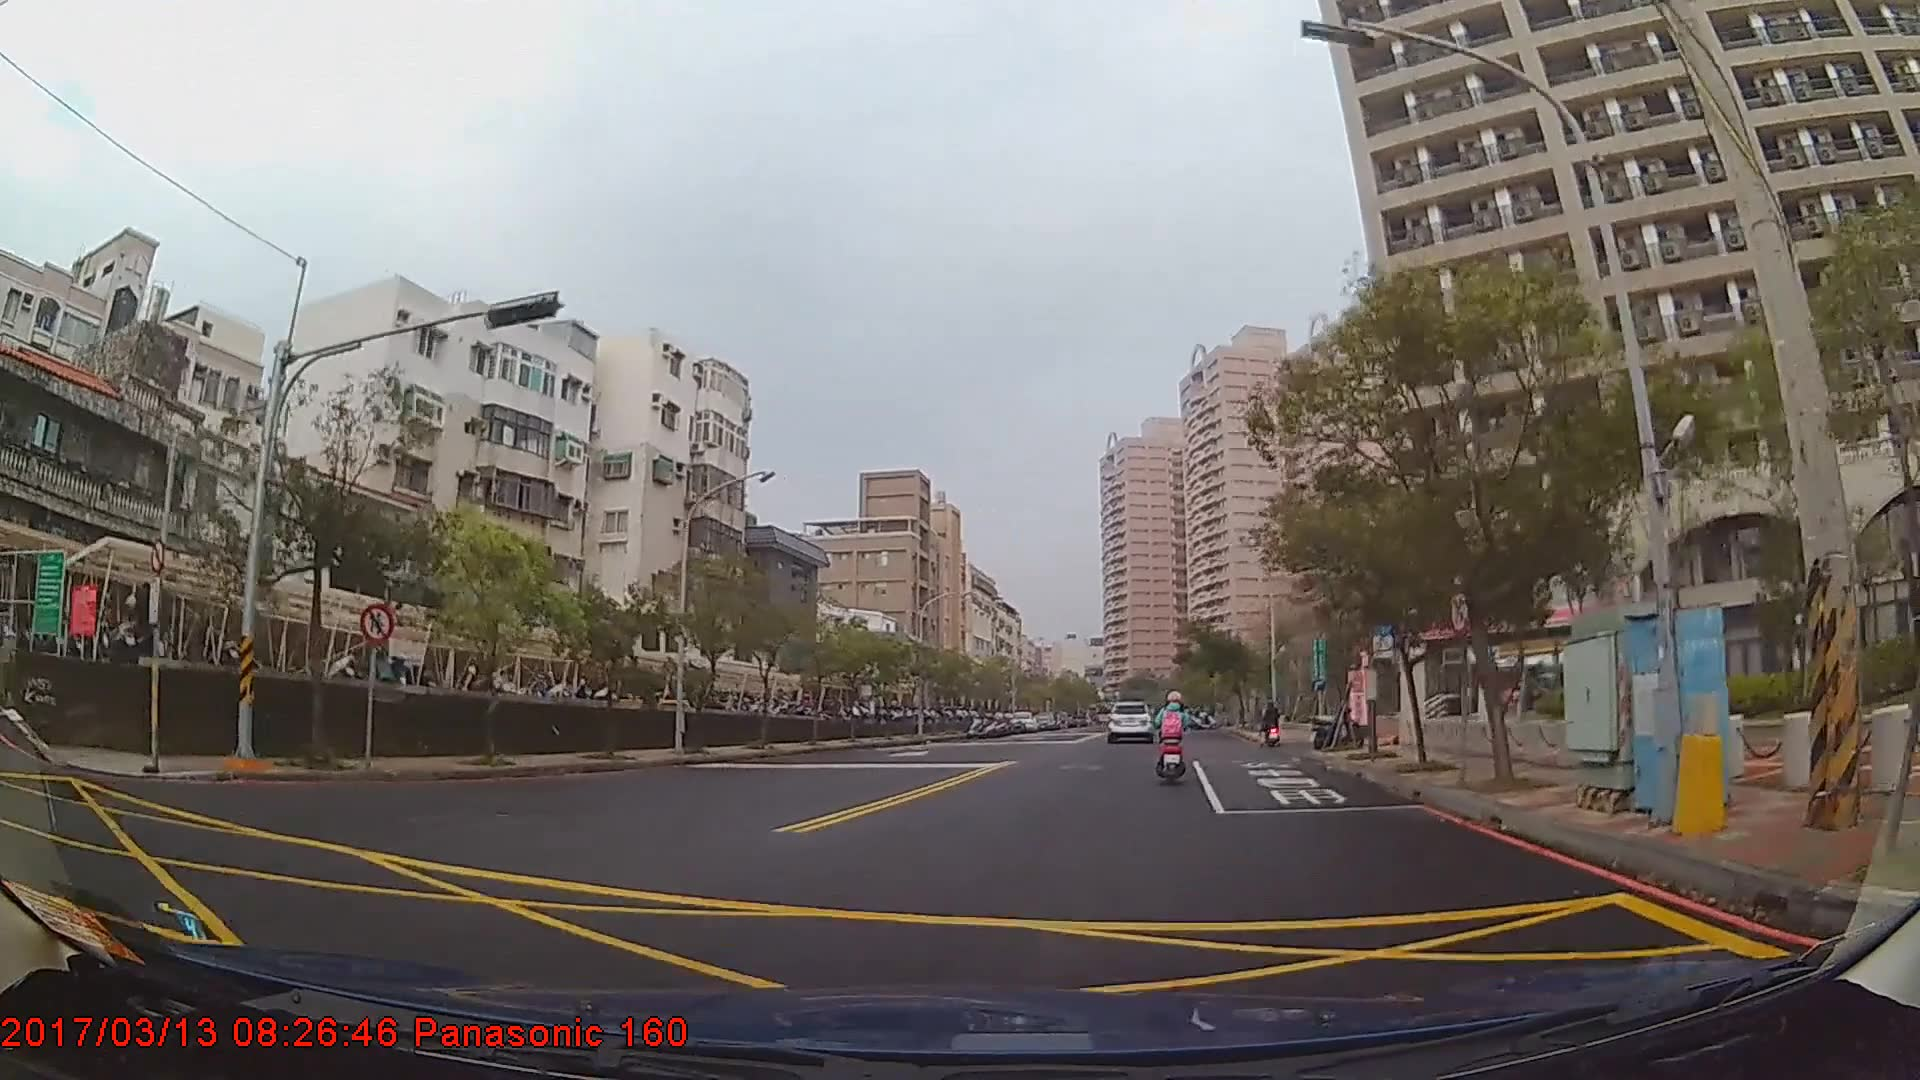rider: (1151, 693, 1198, 780), (1261, 701, 1283, 744)
vehicle: (1106, 697, 1154, 740)
